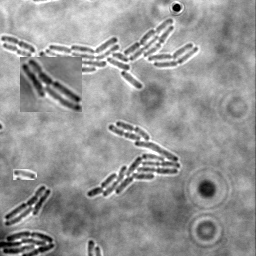Dividing: (1, 34, 37, 52), (3, 41, 33, 57)
Microcolony: (40, 18, 199, 89), (87, 120, 181, 197), (20, 57, 82, 112), (5, 184, 52, 226), (1, 230, 56, 255)
Rod: (13, 169, 37, 180)
